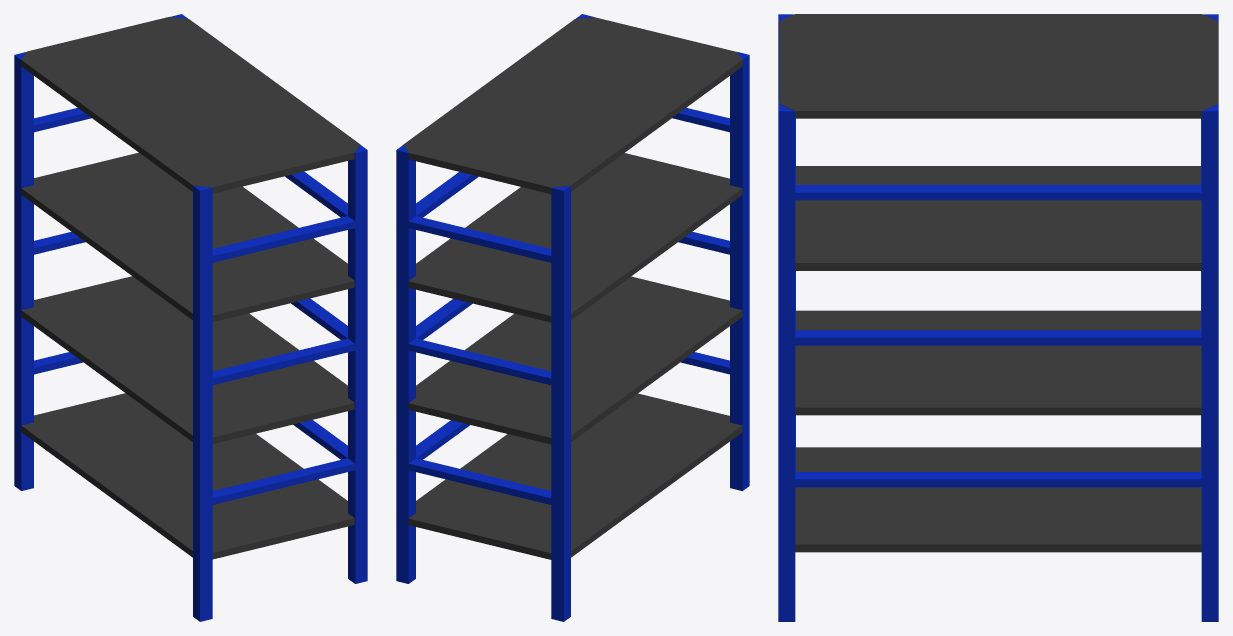
Rendered from Shelf.obj.
3 renders of one model, left to right at view 1: azimuth 30°, elevation 25°; view 2: azimuth 150°, elevation 25°; view 3: azimuth 270°, elevation 25°, orthographic. The views are drawn at different scales.
Parts seen in each view (by area): view 1: Cube.007, Cube.006, Cube.005, Cube.004, Cube, Cube.001, Cube.003, Cube.012, Cube.015, Cube.016, Cube.010, Cube.009 (+4 smaller); view 2: Cube.007, Cube.006, Cube.005, Cube.004, Cube.003, Cube.002, Cube, Cube.011, Cube.013, Cube.014, Cube.010, Cube.009 (+4 smaller); view 3: Cube.007, Cube.005, Cube.004, Cube.006, Cube.001, Cube.002, Cube.008, Cube.009, Cube.010.
Boxes of the visible parts, x1=… form: Cube.007: x1=21, y1=16, x2=360, y2=193; Cube.006: x1=21, y1=152, x2=354, y2=321; Cube.005: x1=21, y1=276, x2=354, y2=443; Cube.004: x1=21, y1=393, x2=354, y2=559; Cube: x1=193, y1=185, x2=212, y2=621; Cube.001: x1=348, y1=145, x2=367, y2=583; Cube.003: x1=14, y1=52, x2=33, y2=490; Cube.012: x1=212, y1=458, x2=355, y2=504; Cube.015: x1=212, y1=338, x2=355, y2=385; Cube.016: x1=212, y1=216, x2=355, y2=262; Cube.010: x1=285, y1=171, x2=347, y2=217; Cube.009: x1=291, y1=298, x2=347, y2=339; Cube.007: x1=403, y1=17, x2=742, y2=193; Cube.006: x1=408, y1=153, x2=742, y2=322; Cube.005: x1=408, y1=276, x2=742, y2=444; Cube.004: x1=408, y1=393, x2=742, y2=559; Cube.003: x1=551, y1=185, x2=570, y2=621; Cube.002: x1=396, y1=145, x2=415, y2=583; Cube: x1=730, y1=52, x2=749, y2=490; Cube.011: x1=408, y1=458, x2=551, y2=504; Cube.013: x1=408, y1=338, x2=551, y2=385; Cube.014: x1=408, y1=216, x2=551, y2=262; Cube.010: x1=416, y1=172, x2=478, y2=217; Cube.009: x1=416, y1=299, x2=472, y2=339; Cube.007: x1=779, y1=14, x2=1218, y2=118; Cube.005: x1=795, y1=310, x2=1201, y2=415; Cube.004: x1=795, y1=447, x2=1201, y2=552; Cube.006: x1=795, y1=166, x2=1201, y2=270; Cube.001: x1=778, y1=104, x2=795, y2=621; Cube.002: x1=1201, y1=104, x2=1218, y2=621; Cube.008: x1=795, y1=472, x2=1201, y2=487; Cube.009: x1=795, y1=330, x2=1201, y2=345; Cube.010: x1=795, y1=185, x2=1201, y2=200.
Size of the model in its own units: 5.27 by 12.93 by 10.1.
